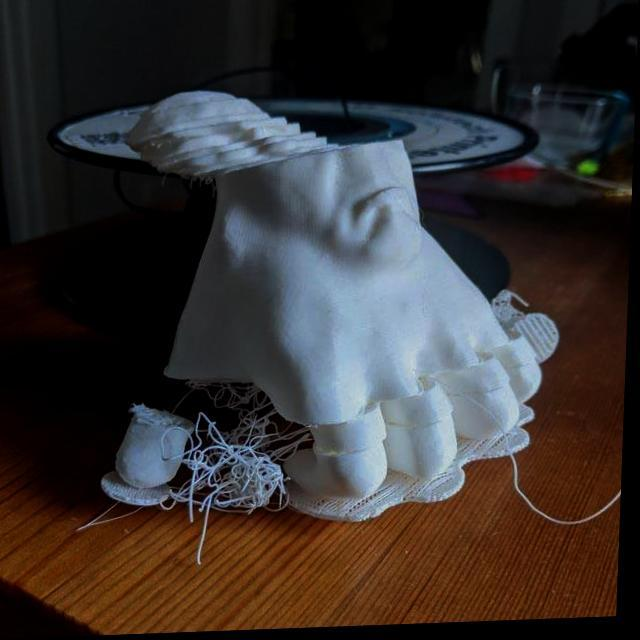spaghetti: (160, 377, 320, 568), (80, 498, 150, 532), (492, 292, 534, 328), (190, 176, 222, 202), (126, 399, 151, 429), (162, 172, 170, 188), (150, 142, 163, 150)
